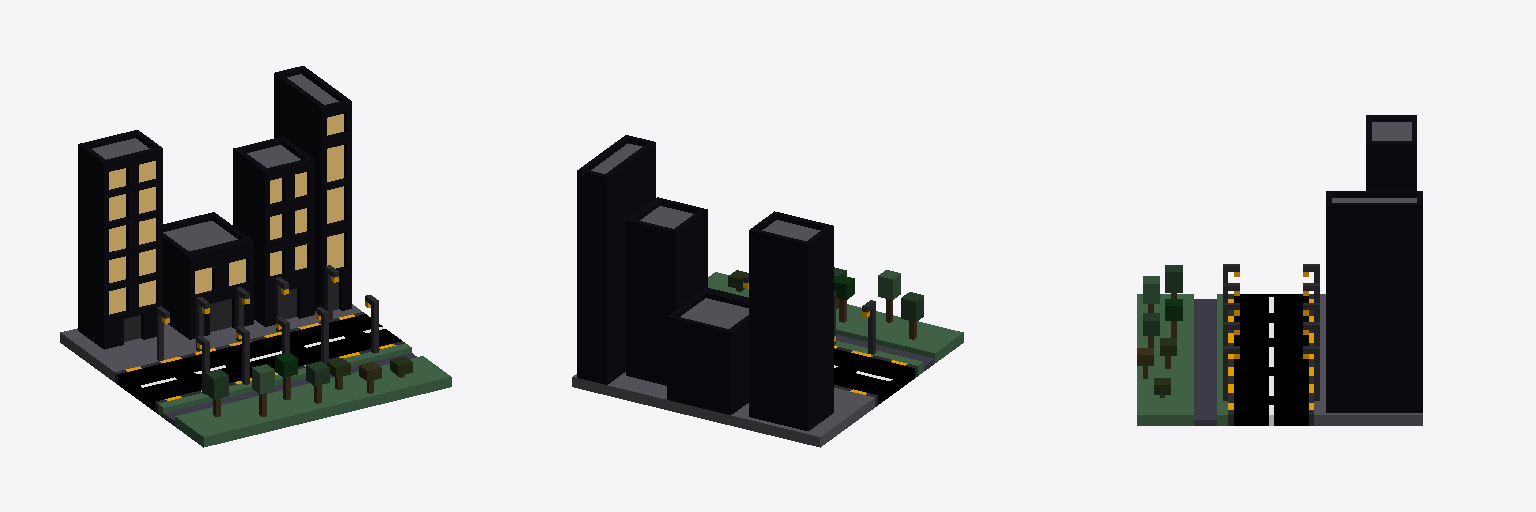
3 renders of one model, left to right at view 1: azimuth 30°, elevation 25°; view 2: azimuth 150°, elevation 25°; view 3: azimuth 270°, elevation 25°, orthographic.
Parts seen in each view (by area): view 1: object 1; view 2: object 1; view 3: object 1.
Part boxes in pixels (x1,y1,x2,y2): object 1: (60,66,451,447); object 1: (572,135,963,447); object 1: (1137,115,1422,425).
Bounding box in the file's own units: 5 × 4.2 × 5.
1 materials, 1 textured.